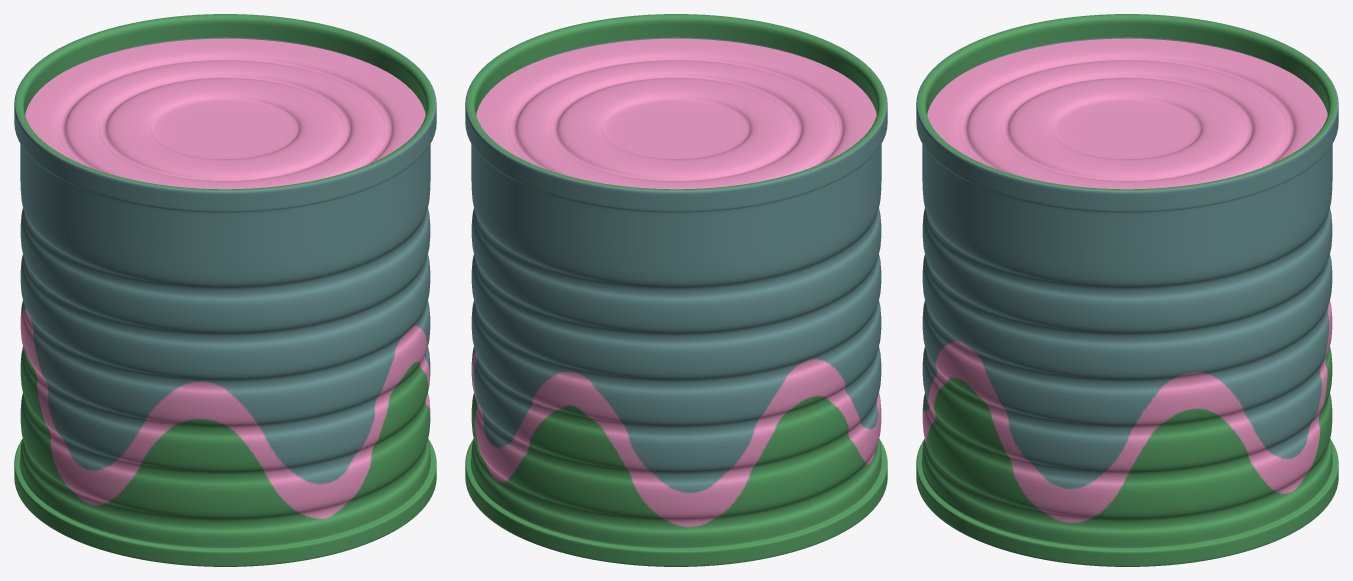
The model's file is TinCan(V2).fbx.
3 renders of one model, left to right at view 1: azimuth 30°, elevation 25°; view 2: azimuth 150°, elevation 25°; view 3: azimuth 270°, elevation 25°, orthographic.
Parts seen in each view (by area): view 1: Cylinder.001, Circle.001; view 2: Cylinder.001, Circle.001; view 3: Cylinder.001, Circle.001.
Part boxes in pixels (left/top/right/bottom): Cylinder.001: left=14, top=14, right=436, bottom=566; Circle.001: left=25, top=38, right=425, bottom=189; Cylinder.001: left=465, top=14, right=887, bottom=566; Circle.001: left=476, top=38, right=876, bottom=189; Cylinder.001: left=916, top=14, right=1338, bottom=566; Circle.001: left=927, top=38, right=1327, bottom=189.
Size of the model in its own units: 2.04 by 2 by 2.04.
2 materials, 2 textured.
